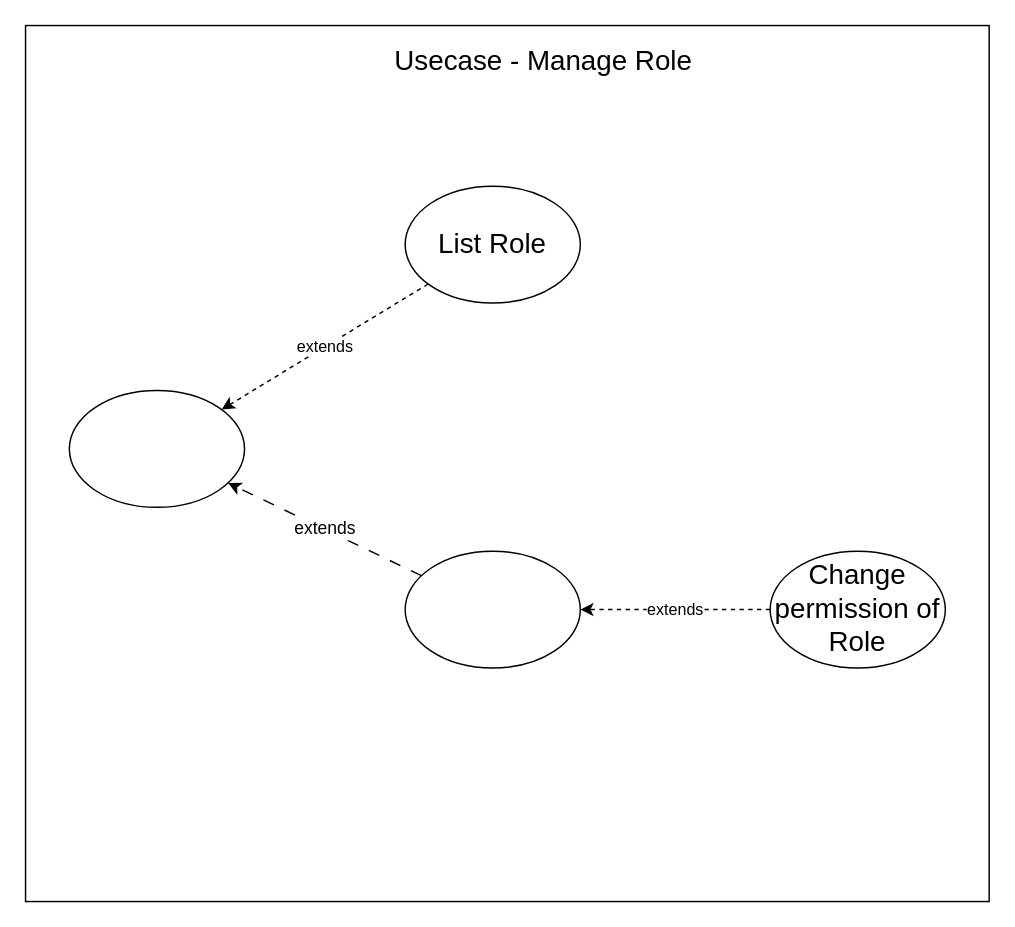
The diagram is 1015 pixels wide and 927 high, and some of its shapes have lost their labels. The box of each missing label's shape, as (x1, y1, x2, y2) in pixels:
Display All Permission in Role: (404, 550, 580, 668)
Manage Role: (68, 389, 245, 507)
